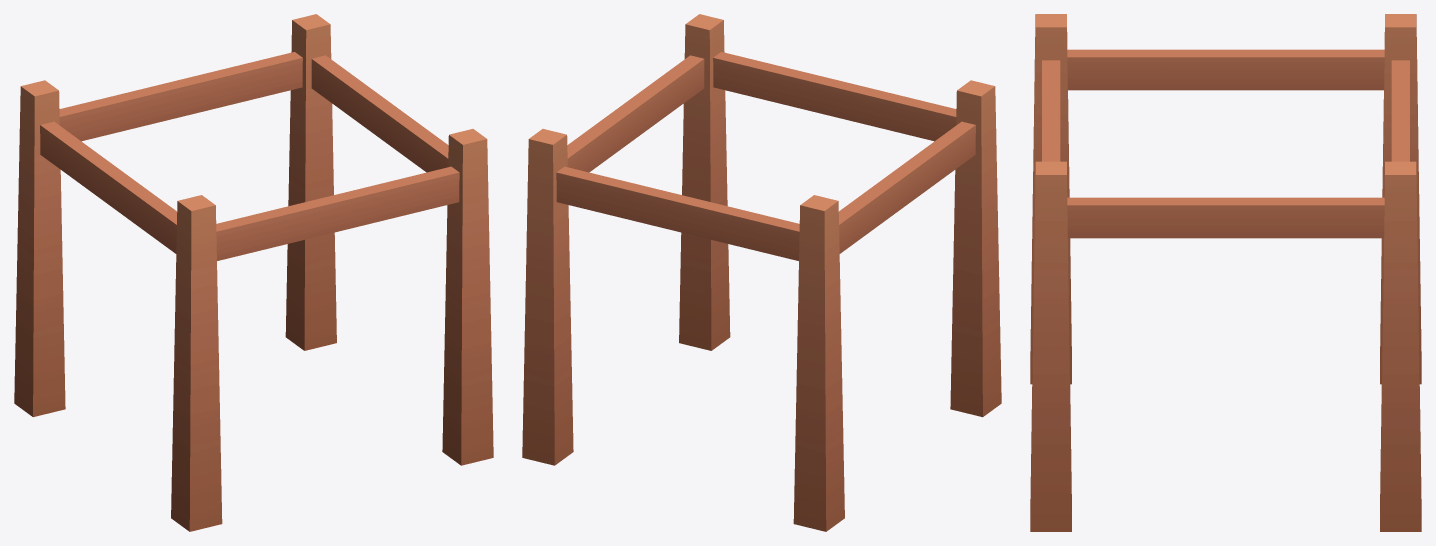
File: structure.glb
The picture shows the model from 3 angles, left to right: view 1: azimuth 30°, elevation 25°; view 2: azimuth 150°, elevation 25°; view 3: azimuth 270°, elevation 25°; orthographic projection. The views are drawn at different scales.
Parts seen in each view (by area): view 1: structure; view 2: structure; view 3: structure.
Boxes of the visible parts, x1=… form: structure: x1=14, y1=14, x2=493, y2=531; structure: x1=522, y1=14, x2=1001, y2=531; structure: x1=1030, y1=14, x2=1421, y2=531.
Size of the model in its own units: 0.5 by 0.5 by 0.5.
Materials: 1 (1 with a texture image).
